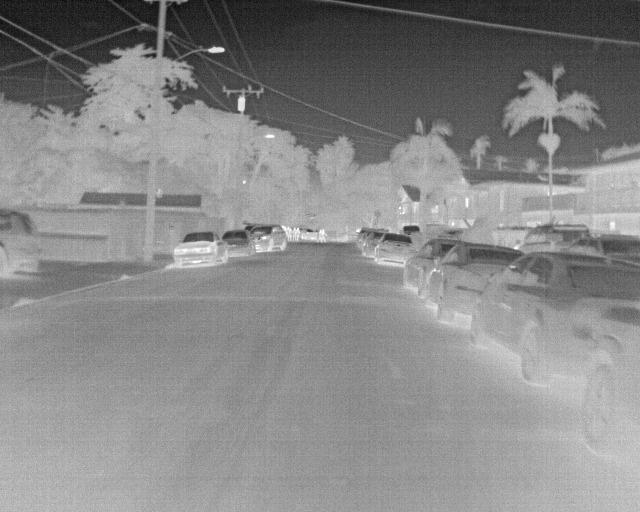car: (464, 251, 637, 380), (577, 305, 635, 464), (424, 243, 523, 328), (403, 240, 469, 296), (0, 207, 48, 282), (513, 221, 591, 251), (173, 232, 228, 271), (559, 233, 634, 255), (373, 234, 415, 267), (245, 224, 285, 255), (221, 227, 253, 258), (361, 232, 387, 258), (354, 228, 378, 248), (398, 224, 422, 240), (300, 227, 317, 240)
